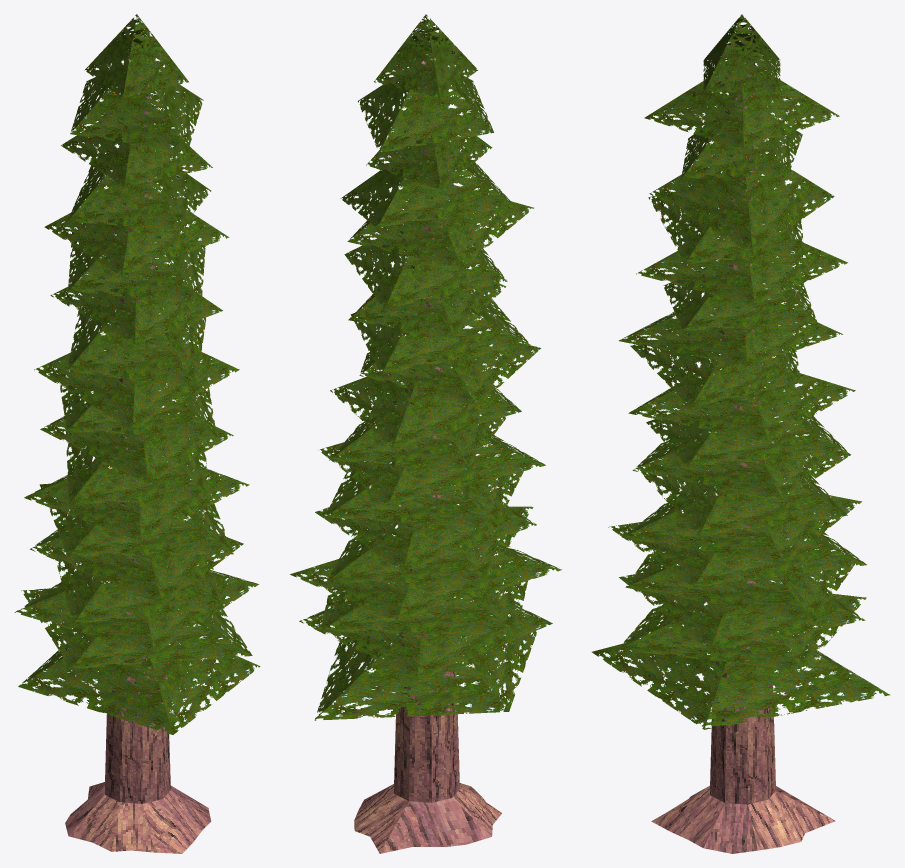
The model's file is datree.glb.
3 renders of one model, left to right at view 1: azimuth 30°, elevation 25°; view 2: azimuth 150°, elevation 25°; view 3: azimuth 270°, elevation 25°, orthographic.
Visible parts, largest first — view 1: tree; view 2: tree; view 3: tree.
Part boxes in pixels (x1,y1,x2,y2): tree: (14,14,260,853); tree: (290,14,561,853); tree: (592,14,890,853).
Size of the model in its own units: 4.92 by 17.81 by 5.99.
Materials: 2 (2 with a texture image).
